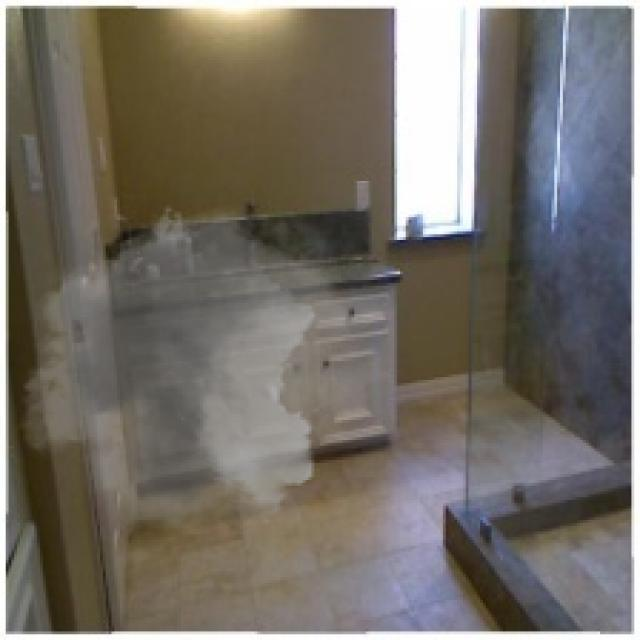Smoke: (2, 194, 394, 537)
